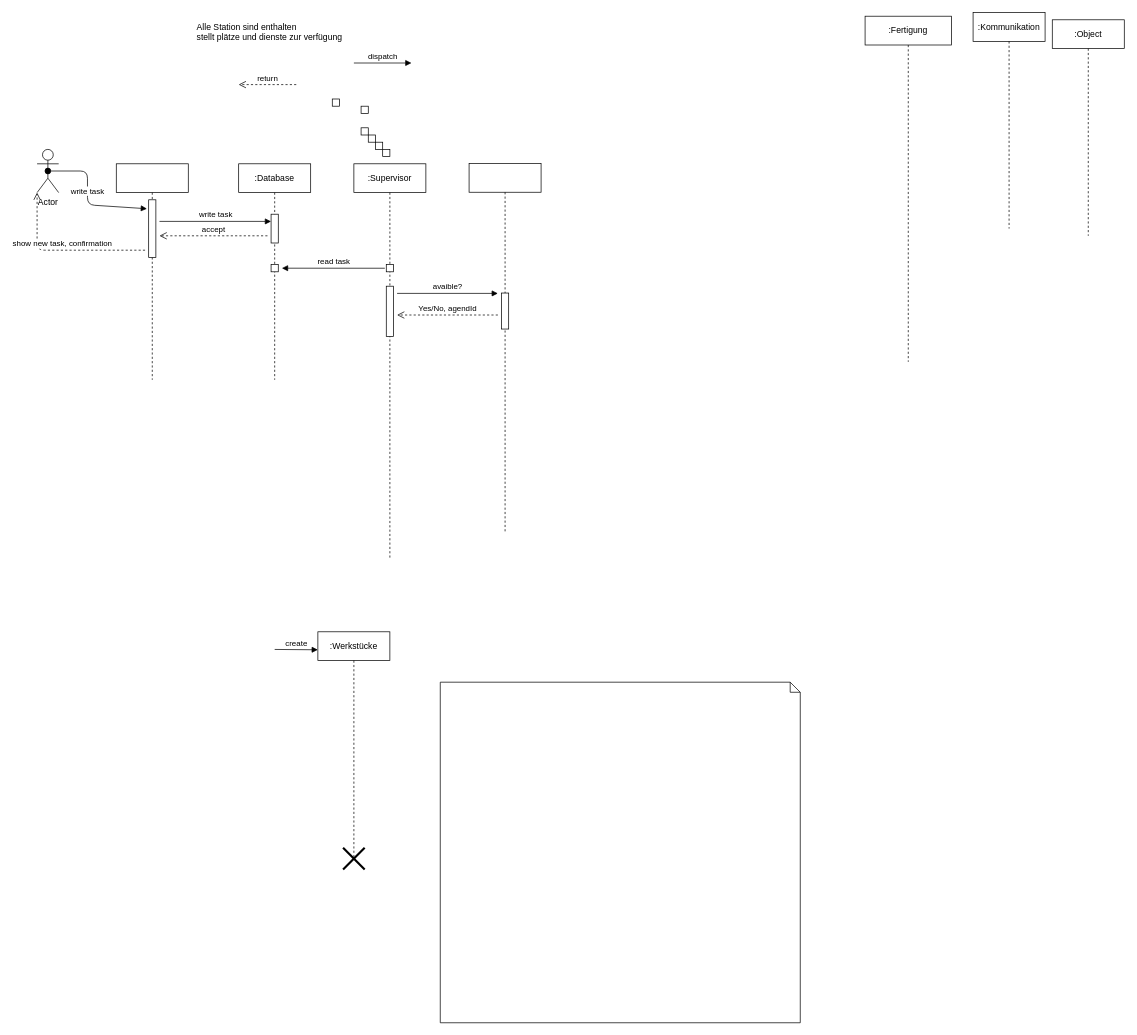
The diagram is 1137 pixels wide and 1035 high, and some of its shapes have lost their labels. Here are the shapes that lost their labels. From the top down, the centre of each, then its label:
point (152, 271): :VisualDataHandler
point (504, 347): :Robot
point (620, 852): Note
